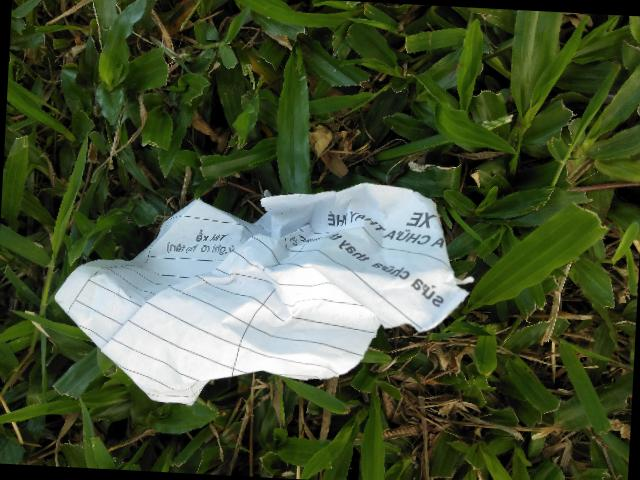cardboard paper: (56, 184, 468, 404)
